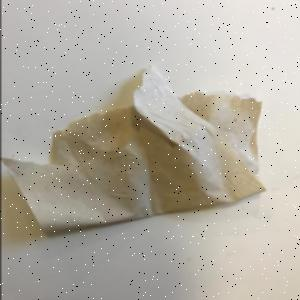Trash: (2, 65, 269, 237)
